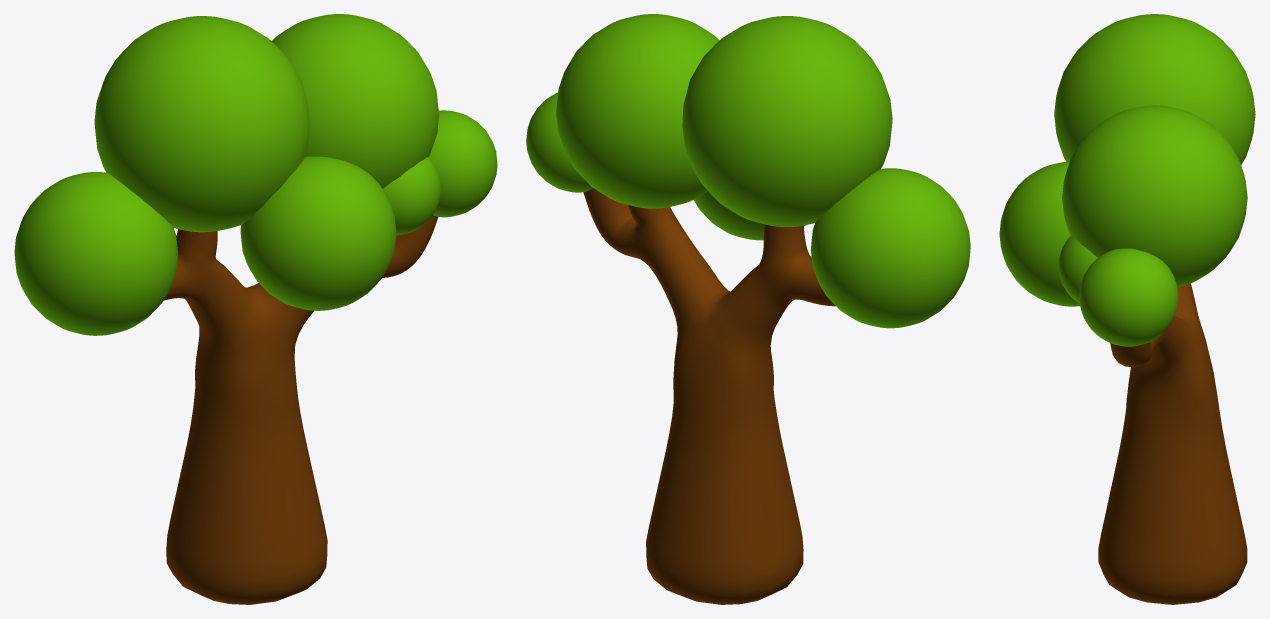
Rendered from tree.glb.
The picture shows the model from 3 angles, left to right: view 1: azimuth 30°, elevation 25°; view 2: azimuth 150°, elevation 25°; view 3: azimuth 270°, elevation 25°; orthographic projection. The views are drawn at different scales.
Visible parts, largest first — view 1: Cube.011; view 2: Cube.011; view 3: Cube.011.
Part boxes in pixels (left/top/right/bottom): Cube.011: left=14, top=14, right=497, bottom=604; Cube.011: left=526, top=14, right=970, bottom=604; Cube.011: left=999, top=14, right=1255, bottom=604.
Size of the model in its own units: 1.38 by 1.7 by 0.729.
